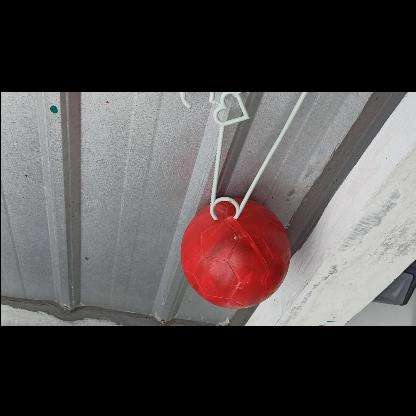red_ball: (177, 197, 289, 309)
